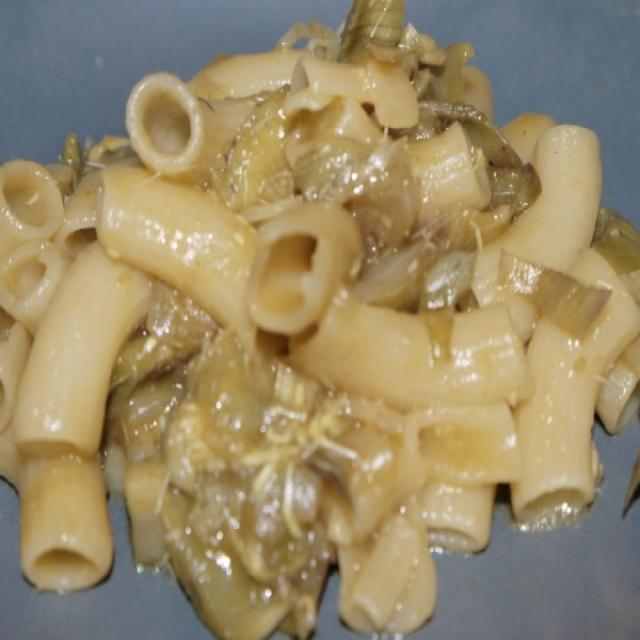Oil pasta: (27, 51, 636, 615)
